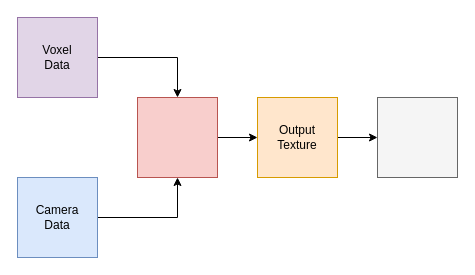
This 475x275 diagram has some shape labels left out. The centre of each missing label's shape, as x and y in pixels:
"Compute Shader" goes at pixel 177 137.
"Screen" goes at pixel 417 137.
